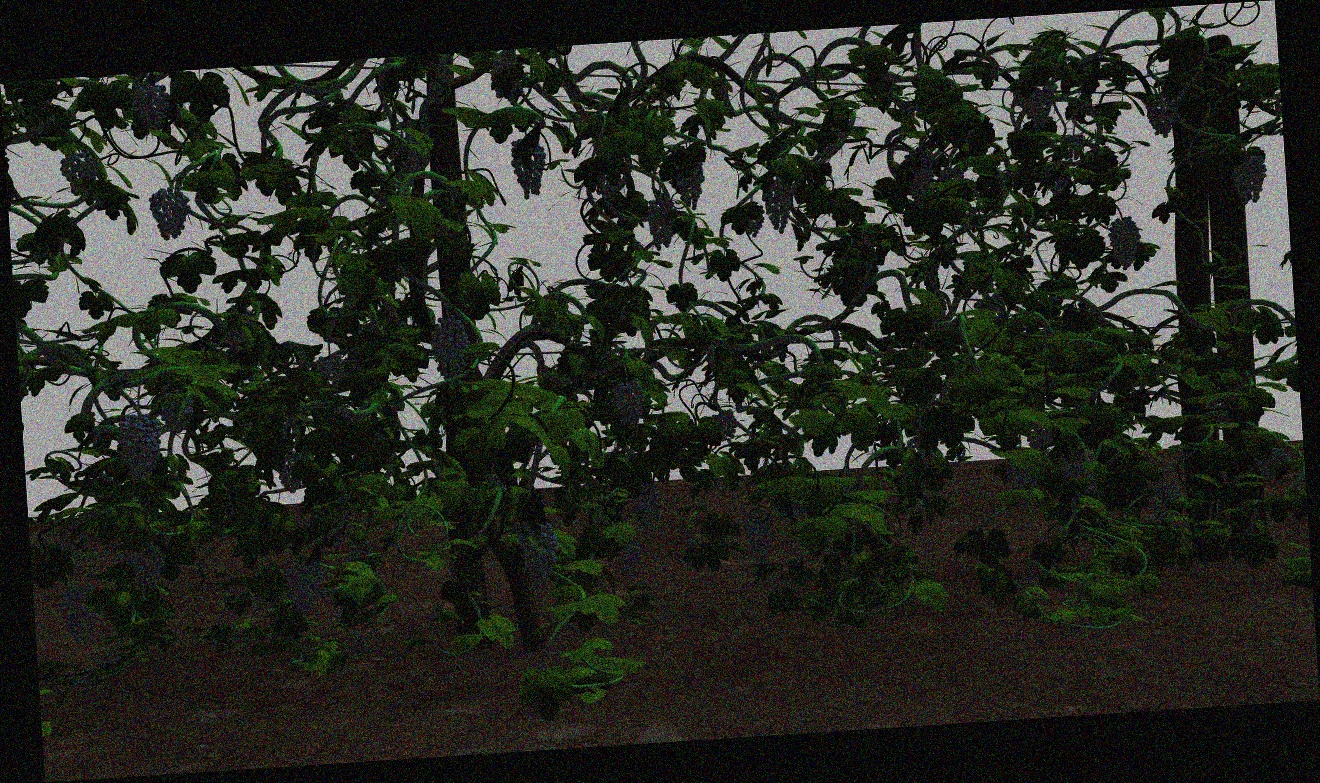grape: (116, 413, 164, 483), (515, 520, 558, 588), (432, 314, 472, 379), (510, 136, 549, 201), (59, 586, 102, 644), (284, 559, 327, 617), (149, 185, 192, 240), (762, 178, 797, 235), (133, 79, 171, 131), (904, 150, 937, 207), (744, 508, 776, 565), (128, 542, 166, 589), (1231, 154, 1268, 202), (59, 151, 99, 194), (1109, 215, 1140, 270), (632, 478, 666, 528), (613, 380, 645, 431), (647, 193, 675, 251), (1145, 95, 1180, 139), (676, 159, 705, 210), (1060, 446, 1096, 482), (164, 392, 194, 433), (1255, 446, 1288, 483), (1153, 480, 1185, 518), (314, 351, 347, 387), (616, 540, 643, 579), (1002, 459, 1037, 489), (1010, 82, 1039, 115), (1032, 86, 1053, 129), (712, 409, 738, 439)
